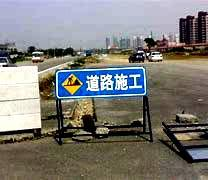sign: (55, 69, 147, 95)
